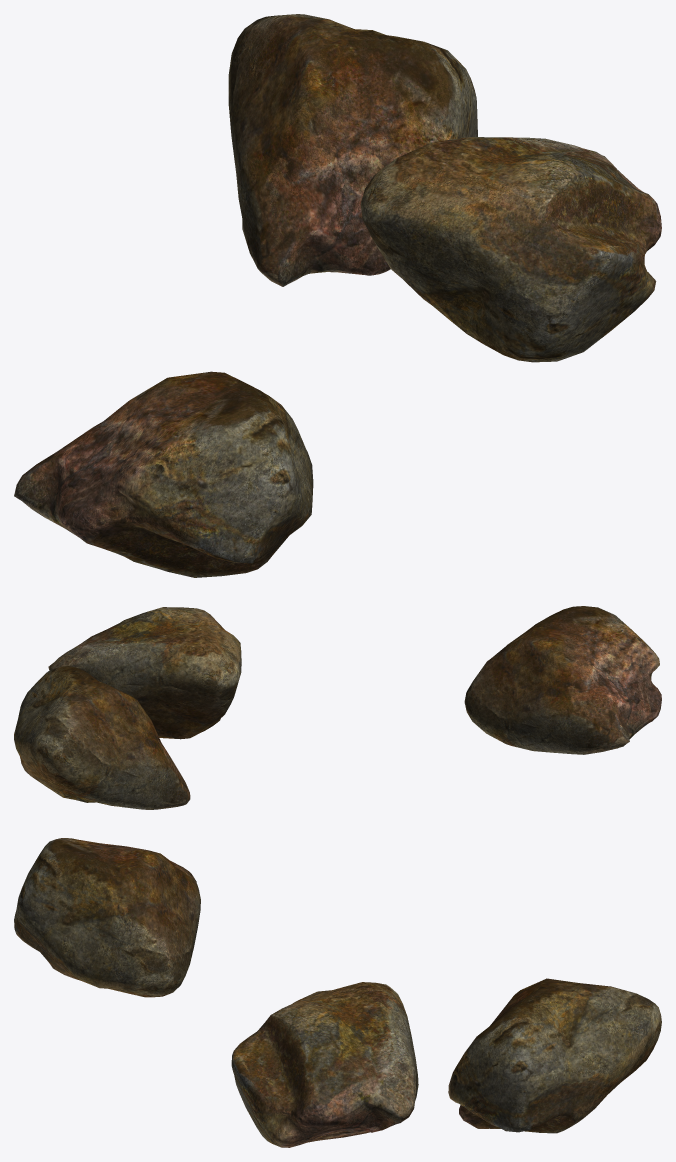
File: Vertical_rock_1.glb
The picture shows the model from 3 angles, top to bottom: view 1: azimuth 30°, elevation 25°; view 2: azimuth 150°, elevation 25°; view 3: azimuth 270°, elevation 25°; orthographic projection. The views are drawn at different scales.
Parts seen in each view (by area): view 1: RiverRock1, RiverRock2, RiverRock; view 2: RiverRock, RiverRock2, RiverRock1; view 3: RiverRock1, RiverRock2, RiverRock.
Part boxes in pixels (x1,y1,x2,y2): RiverRock1: (360,137,661,362); RiverRock2: (228,14,477,286); RiverRock: (14,371,313,577); RiverRock: (464,606,661,754); RiverRock2: (14,666,190,809); RiverRock1: (48,607,241,739); RiverRock1: (231,982,418,1147); RiverRock2: (448,978,661,1133); RiverRock: (14,838,200,997).
Size of the model in its own units: 1.32 by 0.3339 by 1.34.
Materials: 1 (1 with a texture image).
